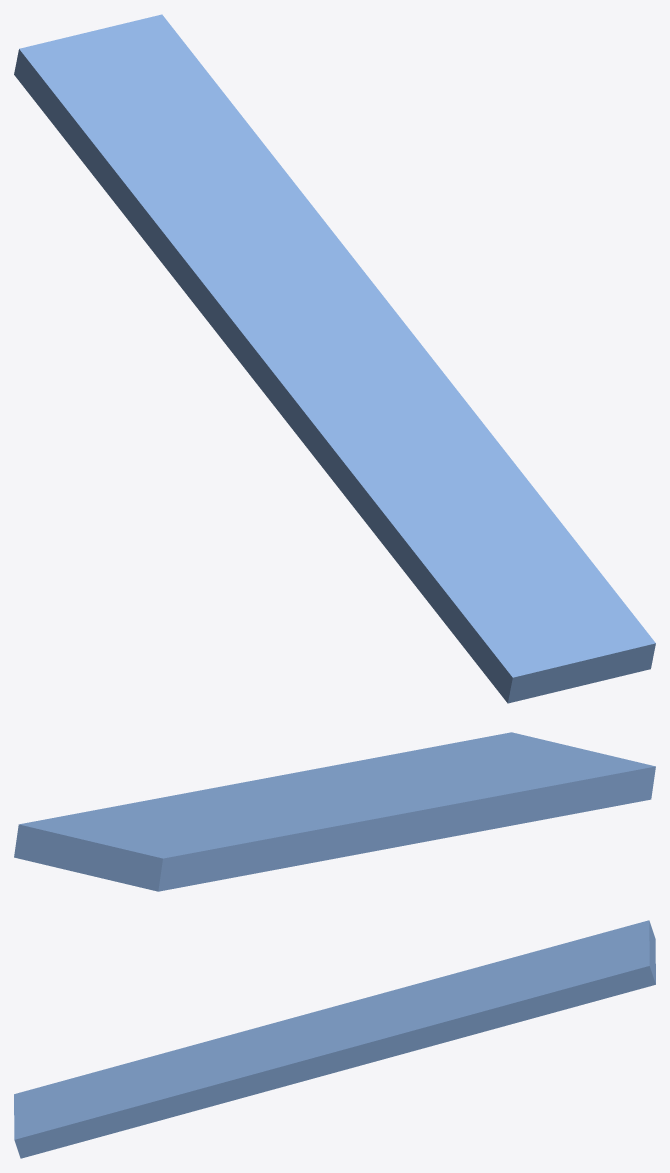
The model's file is testrun1.fbx.
3 views of the same model, one above another, from view 1: azimuth 30°, elevation 25°; view 2: azimuth 150°, elevation 25°; view 3: azimuth 270°, elevation 25° (orthographic). The views are drawn at different scales.
Visible parts, largest first — view 1: Cube.003; view 2: Cube.003; view 3: Cube.003.
Part boxes in pixels (x1,y1,x2,y2): Cube.003: (14, 14, 655, 703); Cube.003: (14, 732, 655, 891); Cube.003: (14, 920, 655, 1158).
Size of the model in its own units: 1937 by 3816 by 11501.
